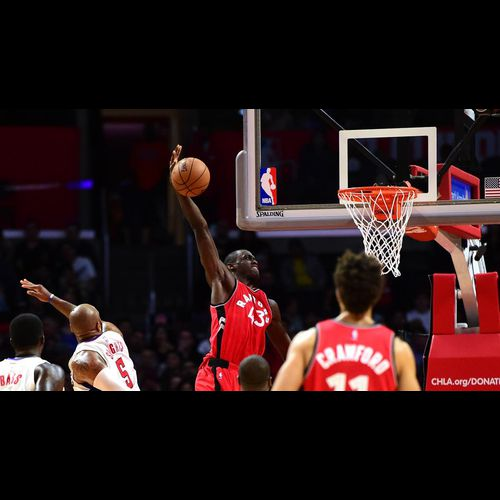ball: (171, 158, 211, 197)
